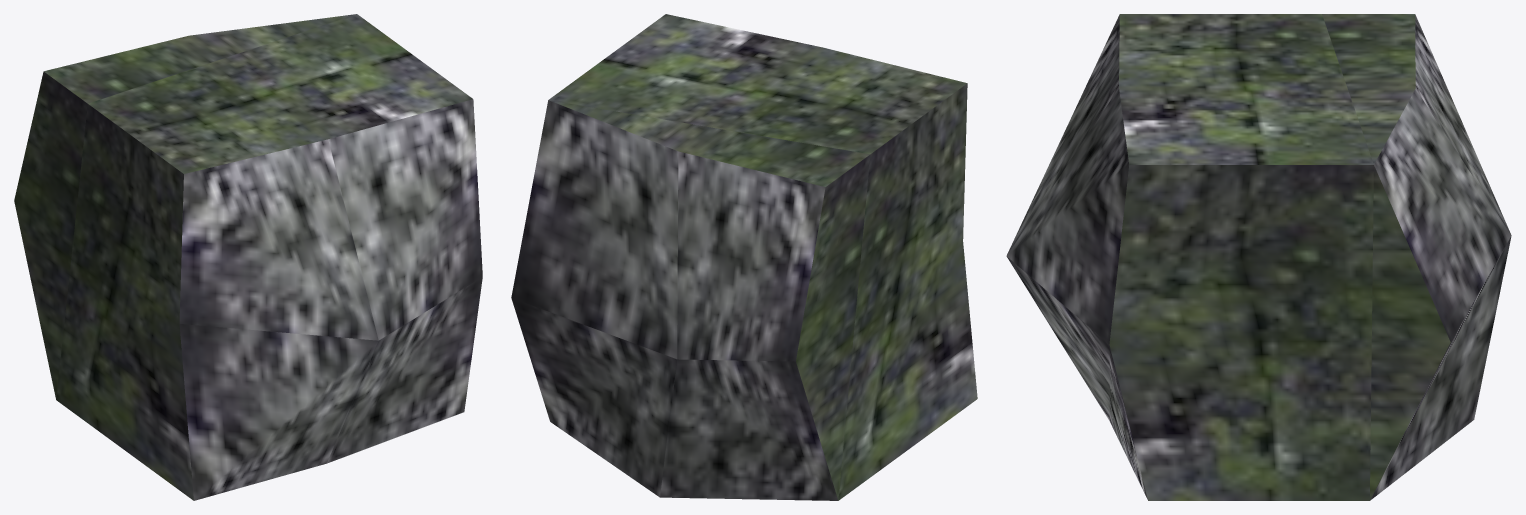
The picture shows the model from 3 angles, left to right: view 1: azimuth 30°, elevation 25°; view 2: azimuth 150°, elevation 25°; view 3: azimuth 270°, elevation 25°; orthographic projection. The views are drawn at different scales.
Parts seen in each view (by area): view 1: model_Object10; view 2: model_Object10; view 3: model_Object10.
Part boxes in pixels (bbox=[...]): model_Object10: bbox=[14, 14, 482, 500]; model_Object10: bbox=[511, 14, 977, 500]; model_Object10: bbox=[1006, 14, 1511, 500].
Bounding box in the file's own units: 0.7167 × 0.7446 × 1.01.
Materials: 1 (1 with a texture image).
